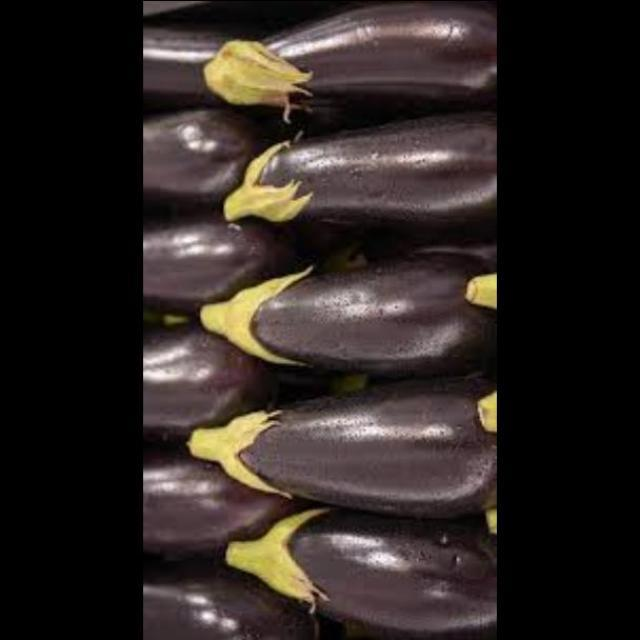eggplant: (217, 133, 495, 282), (222, 496, 496, 639), (191, 390, 495, 512), (197, 9, 496, 124), (186, 265, 496, 373), (142, 456, 276, 566), (142, 322, 248, 458), (142, 557, 304, 639), (142, 216, 274, 310), (146, 97, 246, 215), (142, 19, 236, 114)
